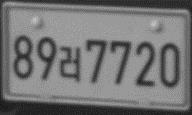0: (159, 41, 181, 88)
2: (134, 41, 156, 87)
7: (83, 38, 107, 83), (110, 39, 132, 85)
8: (13, 34, 33, 79)
9: (35, 36, 56, 81)
러: (58, 45, 82, 82)
